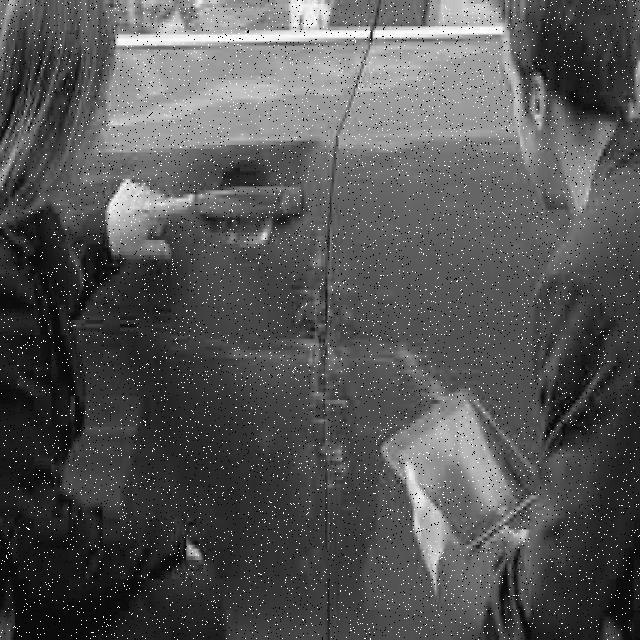car damage: (285, 227, 459, 511)
